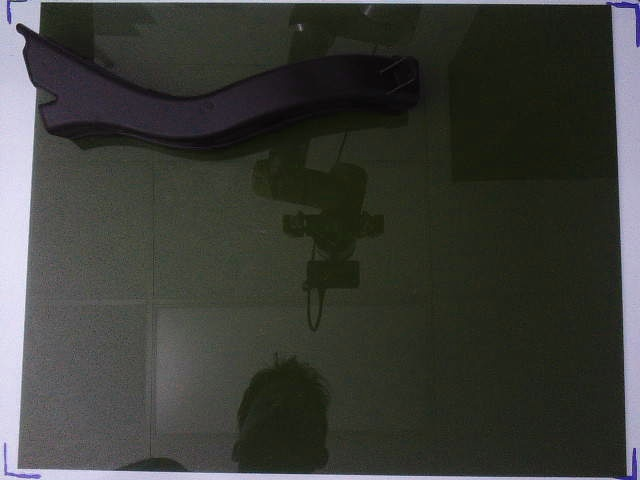887_B-Top: (15, 22, 419, 150)
